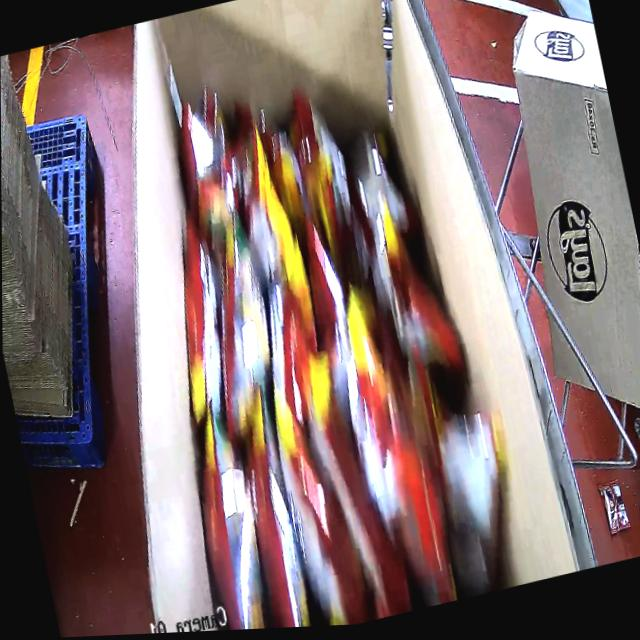MASALA: (112, 27, 519, 635)
